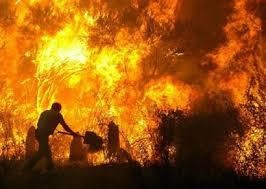fire: (6, 6, 199, 166)
